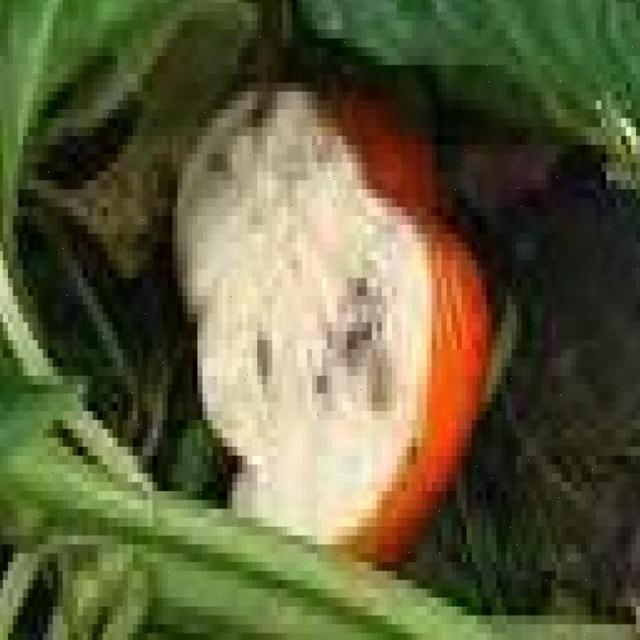Sunscald Fruit: (102, 38, 285, 363)
